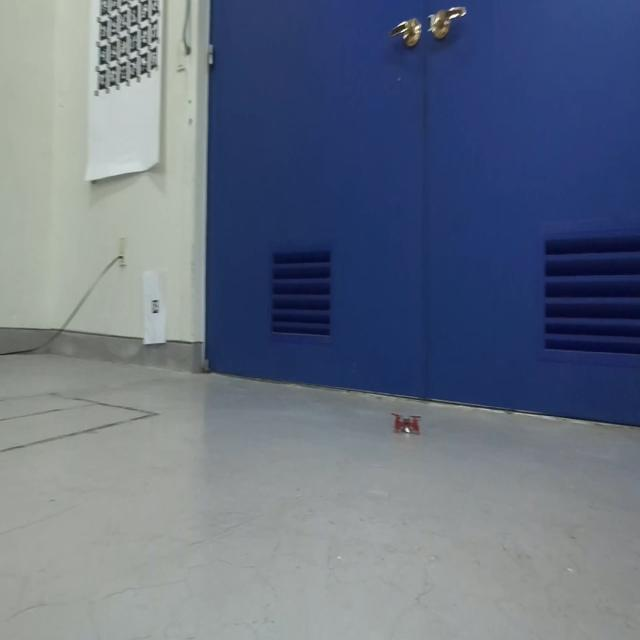crazyflie: (390, 407, 425, 441)
